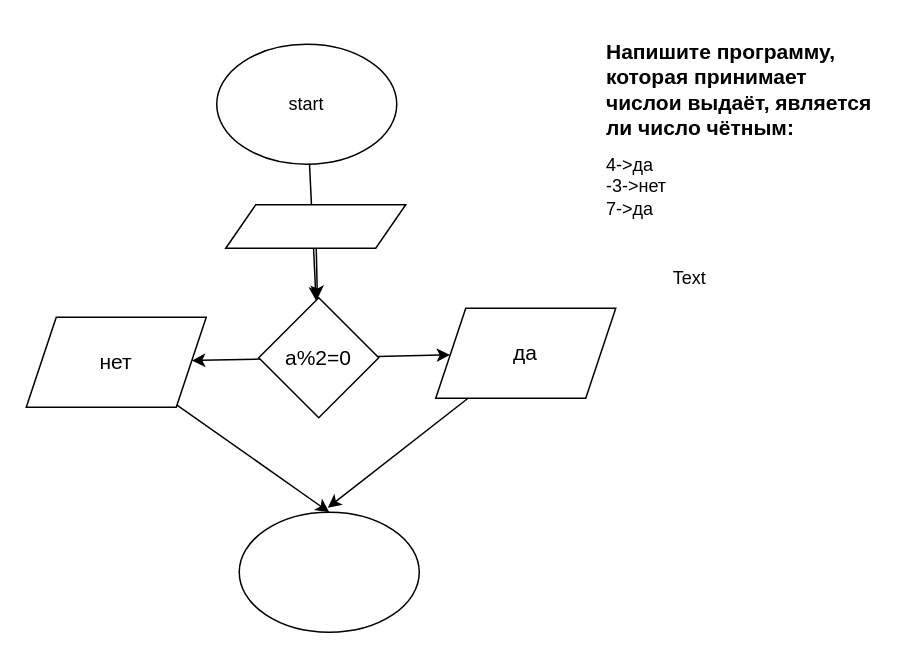
Image size: 911x659. Some labels were removed from this diagram. Here are the shapes that lost their labels. From the top down, the centre of each, then its label:
(x=315, y=225): a=4
(x=328, y=571): end
